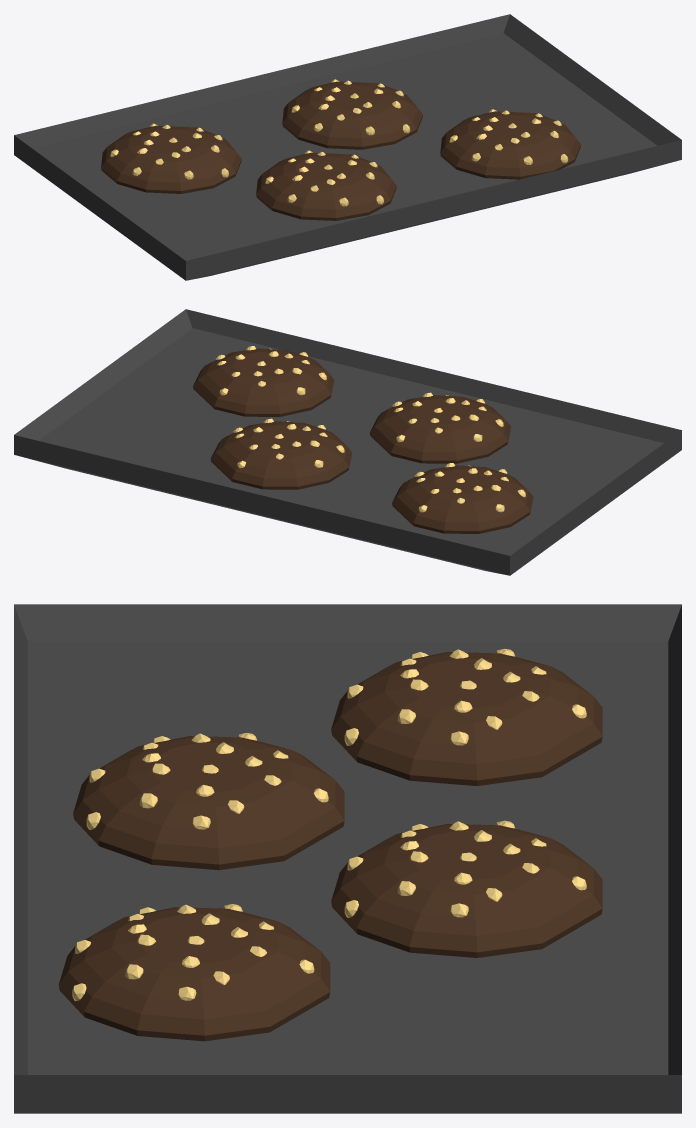
Rendered from bakedWhiteCookieTray.fbx.
The picture shows the model from 3 angles, top to bottom: view 1: azimuth 30°, elevation 25°; view 2: azimuth 150°, elevation 25°; view 3: azimuth 270°, elevation 25°; orthographic projection. The views are drawn at different scales.
Visible parts, largest first — view 1: Cube, Icosphere.005, Icosphere.003, Icosphere.001, Icosphere.007; view 2: Cube, Icosphere.005, Icosphere.003, Icosphere.007, Icosphere.001; view 3: Cube, Icosphere.007, Icosphere.003, Icosphere.001, Icosphere.005.
Boxes of the visible parts, <box> form: Cube: <box>14,14,681,280</box>; Icosphere.005: <box>282,79,422,149</box>; Icosphere.003: <box>256,150,396,220</box>; Icosphere.001: <box>101,123,241,193</box>; Icosphere.007: <box>440,109,580,179</box>; Cube: <box>14,309,681,575</box>; Icosphere.005: <box>210,418,351,489</box>; Icosphere.003: <box>369,392,510,463</box>; Icosphere.007: <box>193,346,334,416</box>; Icosphere.001: <box>392,463,533,533</box>; Cube: <box>14,604,681,1113</box>; Icosphere.007: <box>58,904,330,1041</box>; Icosphere.003: <box>73,733,344,870</box>; Icosphere.001: <box>331,649,602,785</box>; Icosphere.005: <box>331,820,602,957</box>.
Size of the model in its own units: 236 by 21.1 by 142.
